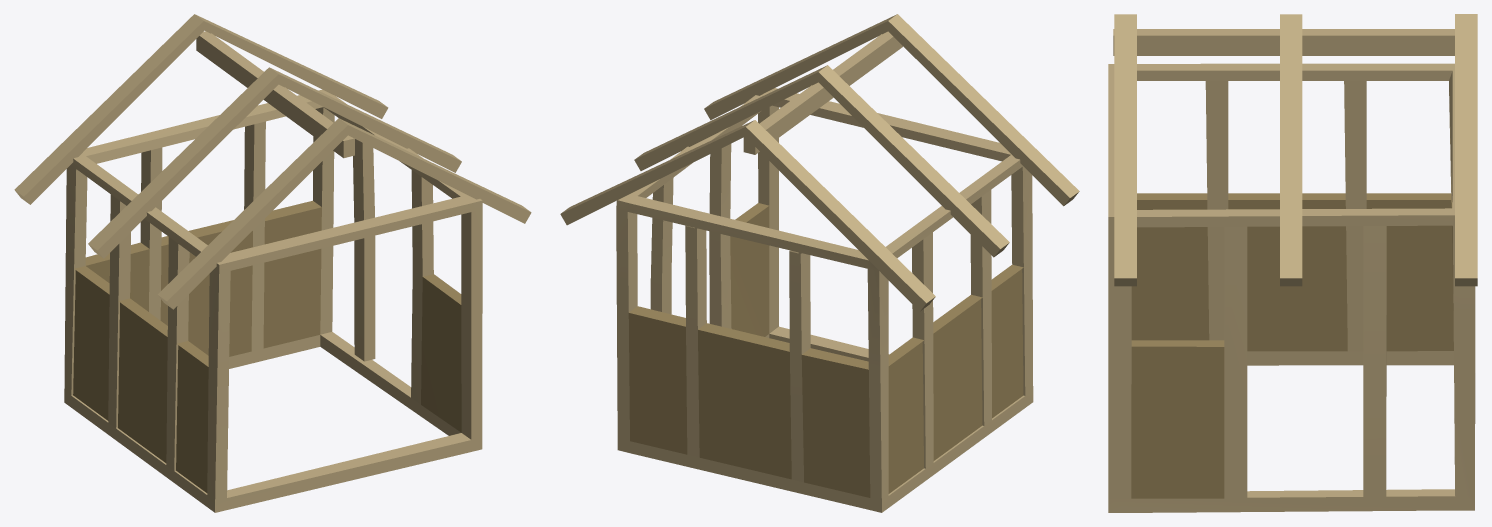
File: SM_HouseBoards.FBX
3 views of the same model, side by side, from view 1: azimuth 30°, elevation 25°; view 2: azimuth 150°, elevation 25°; view 3: azimuth 270°, elevation 25° (orthographic). The views are drawn at different scales.
Visible parts, largest first — view 1: HouseFrame001; view 2: HouseFrame001; view 3: HouseFrame001.
Boxes of the visible parts, left/top/right/bottom form: HouseFrame001: left=14, top=14, right=531, bottom=512; HouseFrame001: left=560, top=14, right=1079, bottom=512; HouseFrame001: left=1108, top=14, right=1477, bottom=512.
Bounding box in the file's own units: 206 × 191 × 151.
